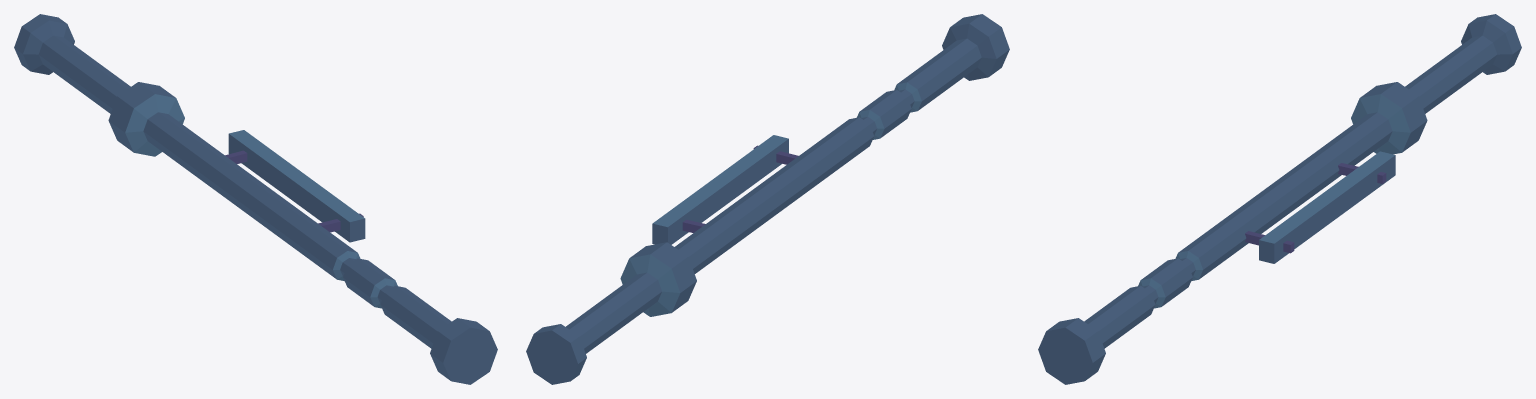
Rendered from pipeSeg-b2.glb.
The picture shows the model from 3 angles, left to right: view 1: azimuth 30°, elevation 25°; view 2: azimuth 150°, elevation 25°; view 3: azimuth 330°, elevation 25°; orthographic projection.
Visible parts, largest first — view 1: pipeSeg-b2; view 2: pipeSeg-b2; view 3: pipeSeg-b2.
Boxes of the visible parts, x1,y1,x2,y2 form: pipeSeg-b2: (14,14,497,384); pipeSeg-b2: (526,14,1009,384); pipeSeg-b2: (1038,14,1521,384).
Size of the model in its own units: 0.5985 by 0.4023 by 5.
1 material, 1 textured.
